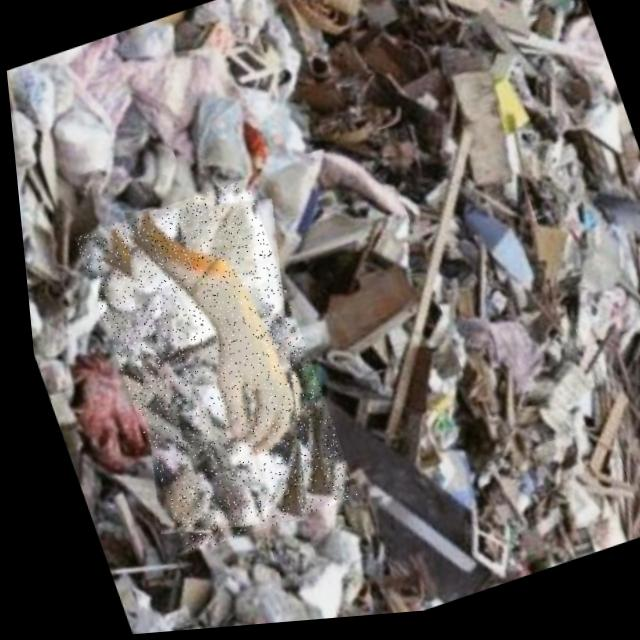Person in Rubble: (65, 177, 350, 562)
